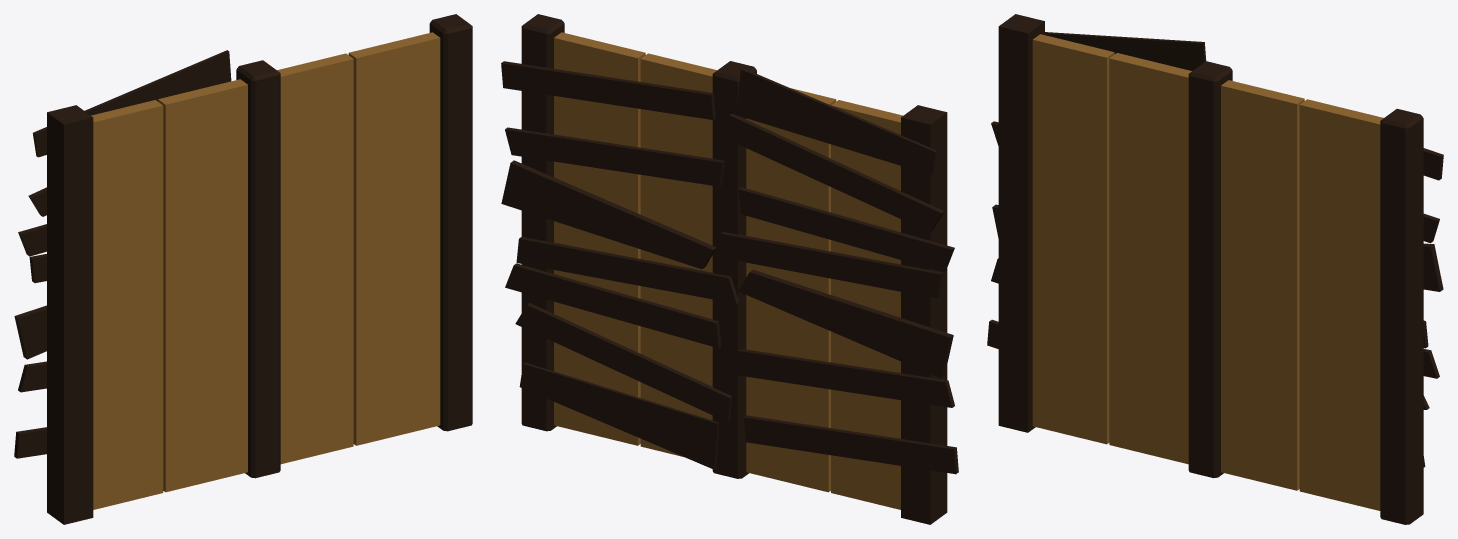
The model's file is SM_Barricade2.fbx.
3 renders of one model, left to right at view 1: azimuth 30°, elevation 25°; view 2: azimuth 150°, elevation 25°; view 3: azimuth 330°, elevation 25°, orthographic.
Visible parts, largest first — view 1: barricade2; view 2: barricade2; view 3: barricade2.
Boxes of the visible parts, left/top/right/bottom form: barricade2: left=14, top=14, right=472, bottom=524; barricade2: left=501, top=14, right=958, bottom=524; barricade2: left=987, top=14, right=1443, bottom=524.
Size of the model in its own units: 155 by 134 by 13.73.
